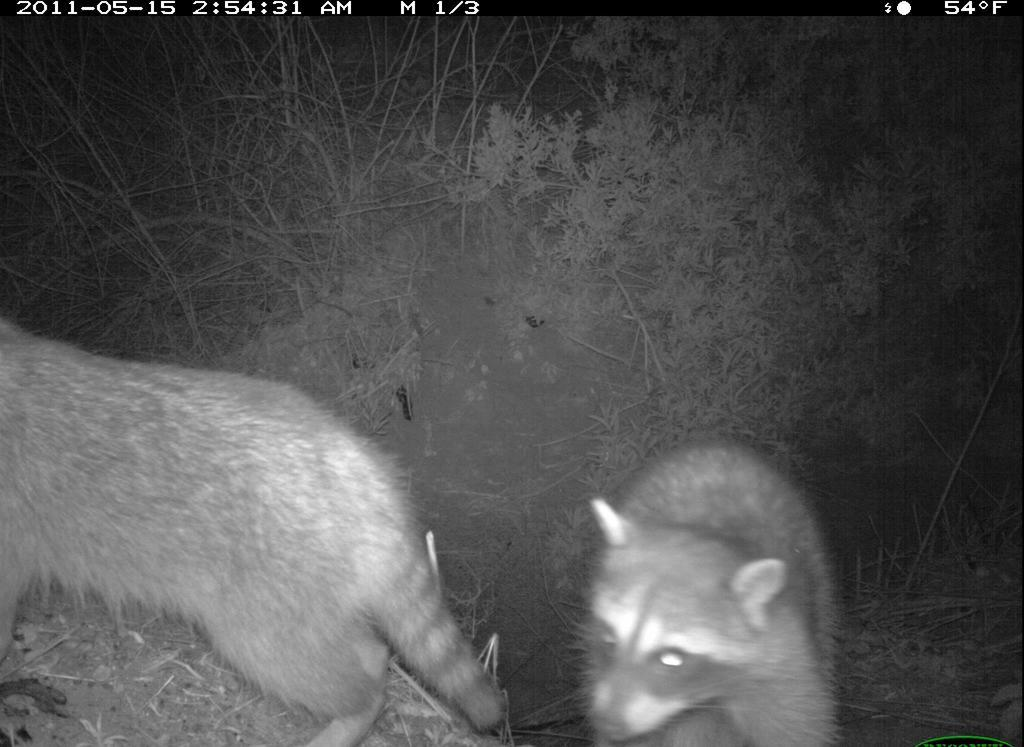raccoon: (8, 302, 516, 747), (578, 440, 852, 747)
